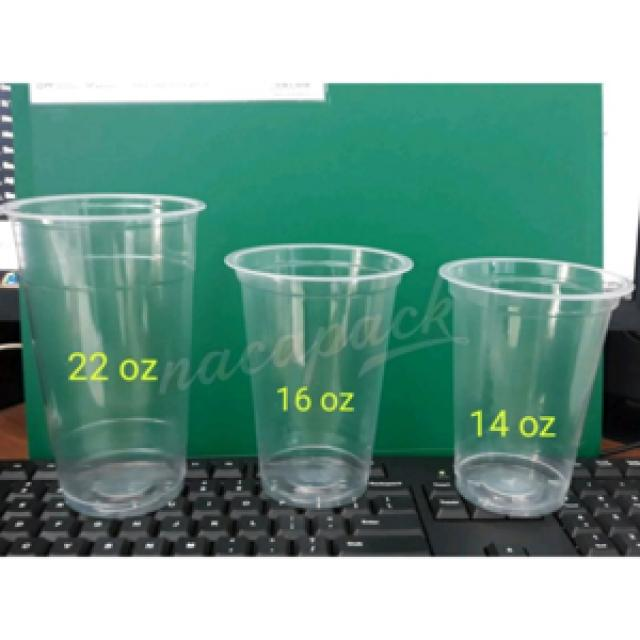plastic cup: (2, 186, 218, 524), (433, 247, 636, 527), (218, 233, 420, 512)
